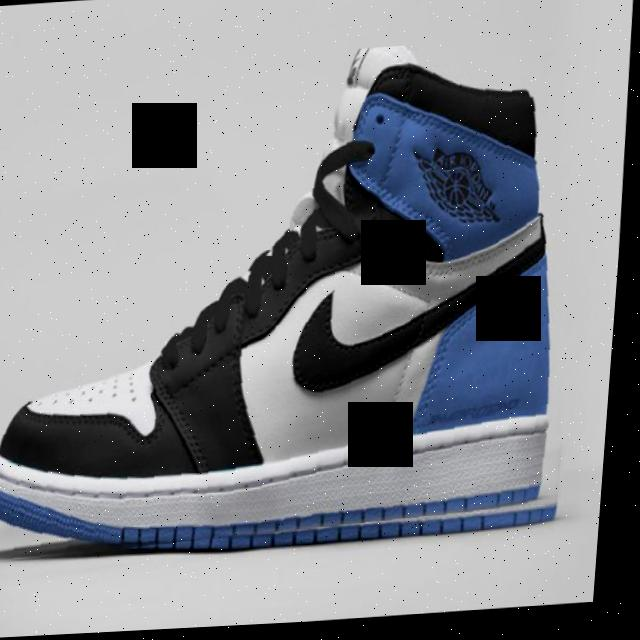shoe: (0, 37, 614, 565)
